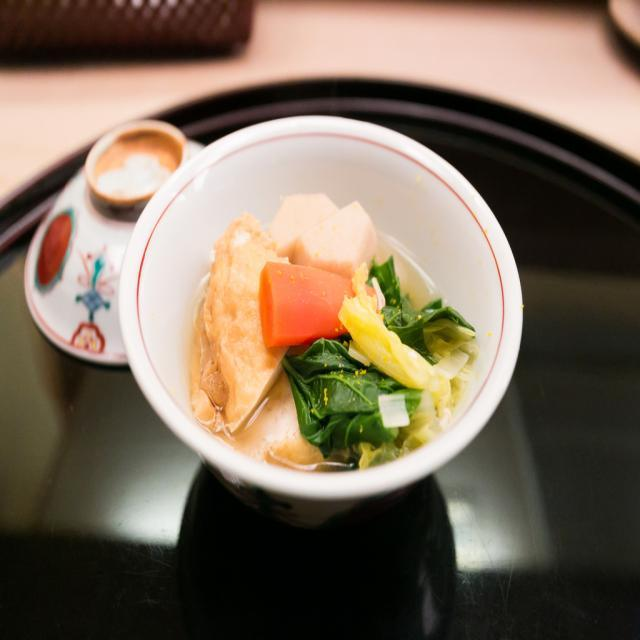Salad: (239, 177, 485, 472)
